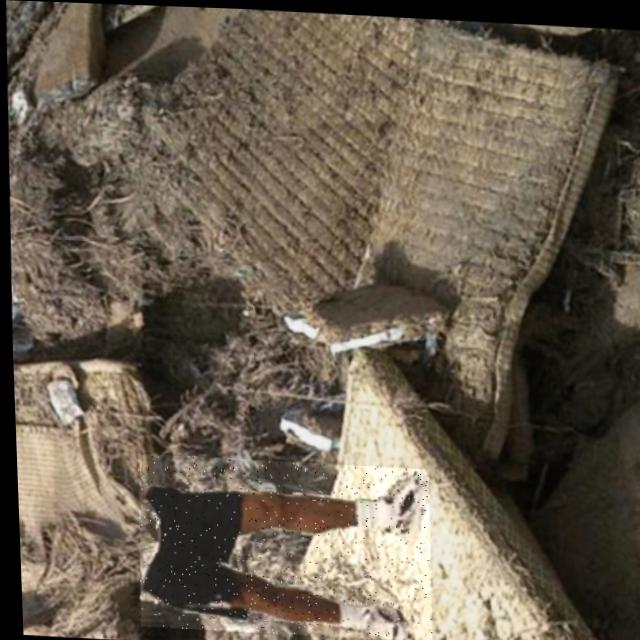Person in Rubble: (131, 451, 430, 637)
